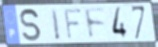4: (111, 5, 129, 41)
7: (131, 5, 148, 41)
F: (83, 7, 107, 42), (63, 8, 84, 41)
I: (49, 8, 62, 42)
S: (19, 7, 42, 43)
